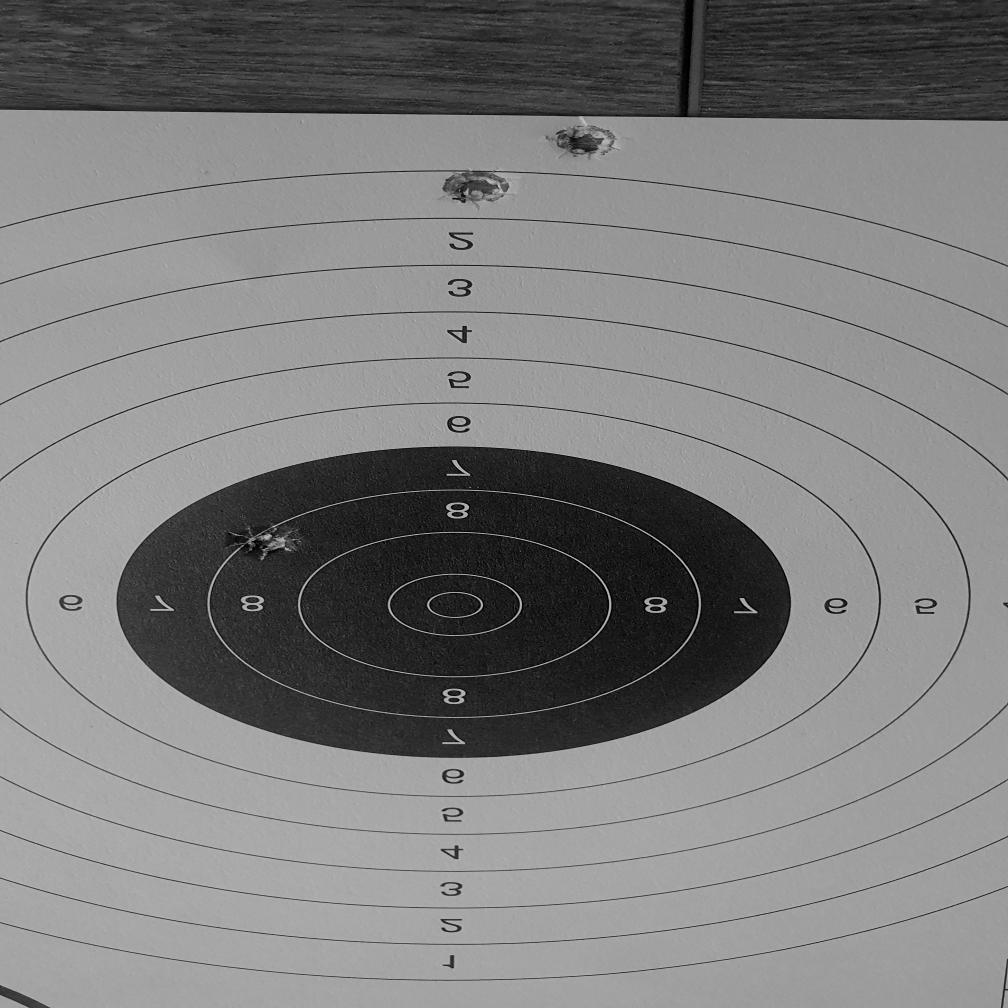0: (536, 114, 633, 160)
1: (438, 170, 512, 208)
8: (213, 520, 299, 560)
Target: (0, 168, 1008, 986)
black_contour: (118, 446, 791, 758)
